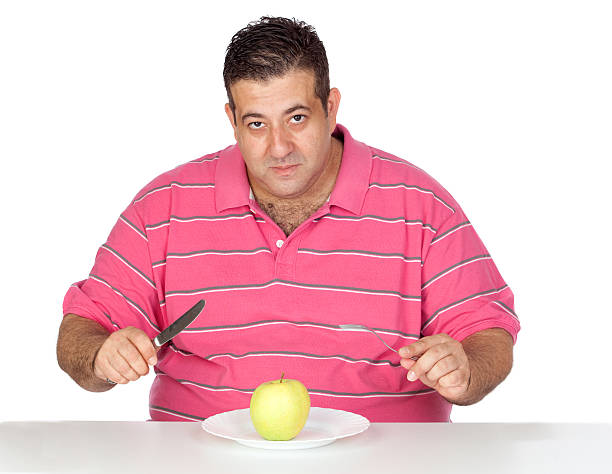knife: (153, 297, 210, 348)
